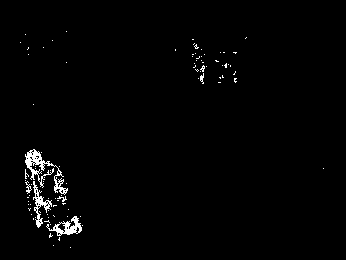person: (24, 149, 82, 243)
